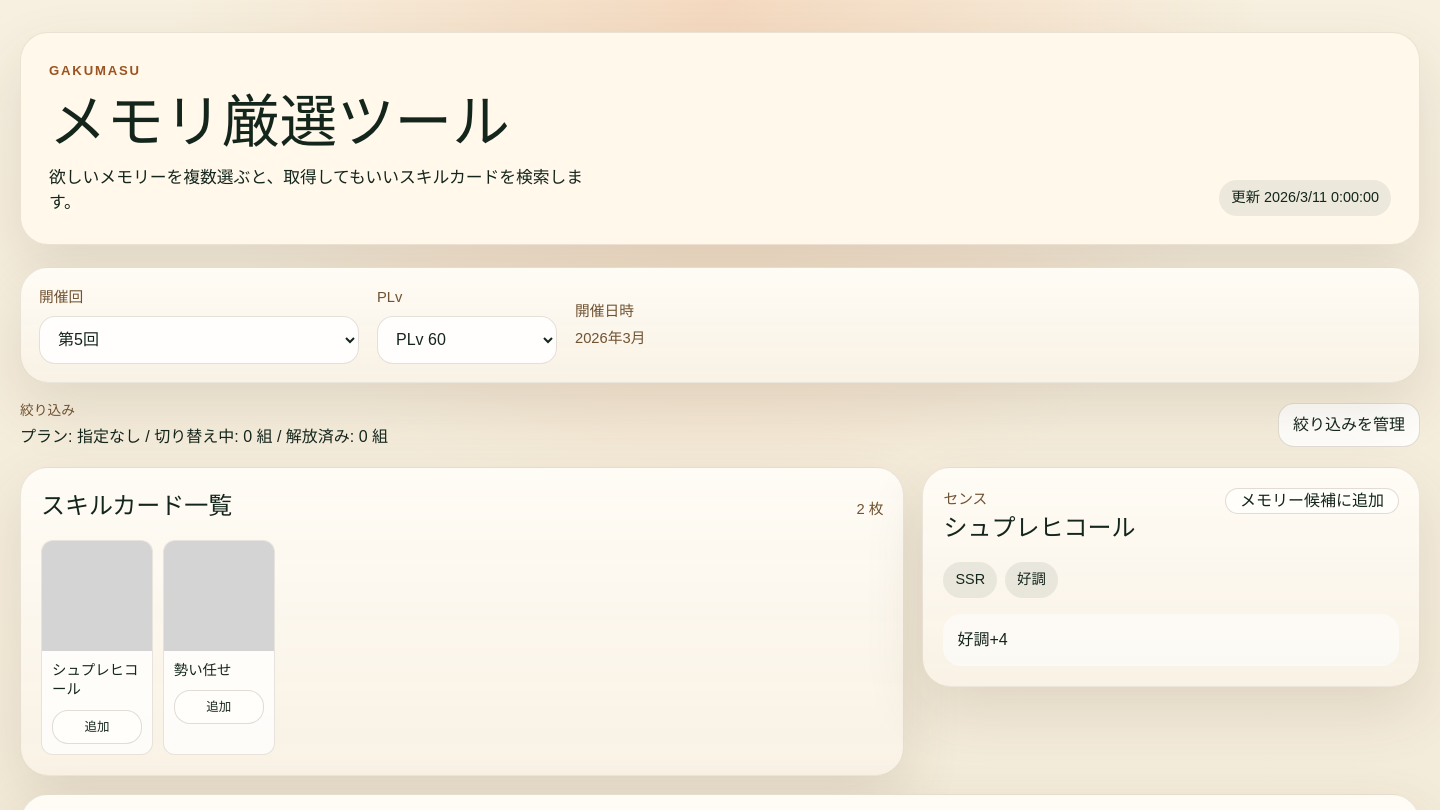
Test: AppShell › disables customized state when customization data is unavailable
Click the button with aria-label "シュプレヒコールを候補に追加" at coordinates (97, 648), box [41, 540, 153, 755]
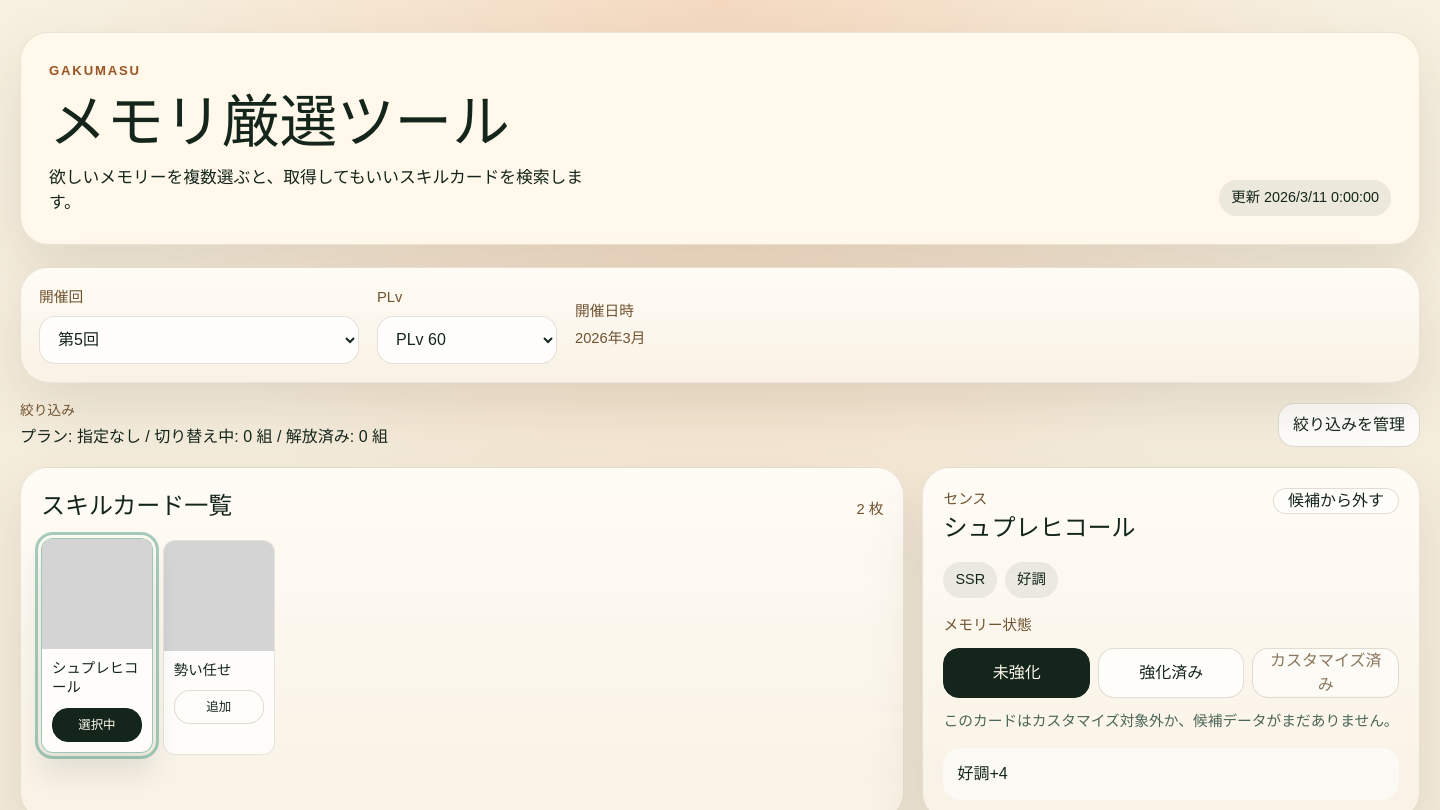
Result: the button "カスタマイズ済み" is disabled at [1252, 648, 1399, 698]
